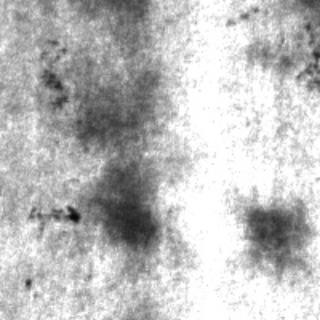patches: (74, 70, 158, 150), (91, 160, 161, 252), (230, 195, 304, 265)
